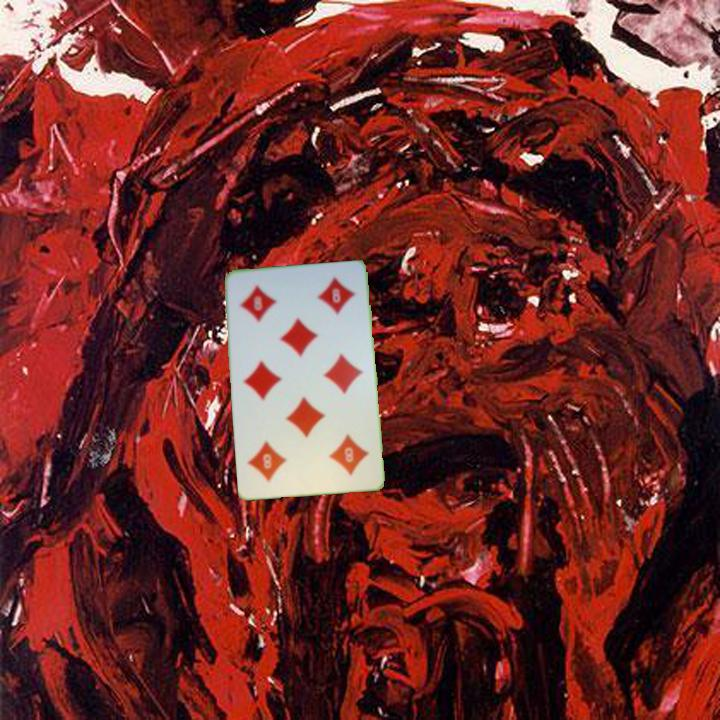d_8.png: (304, 423, 375, 485), (232, 275, 302, 337)
